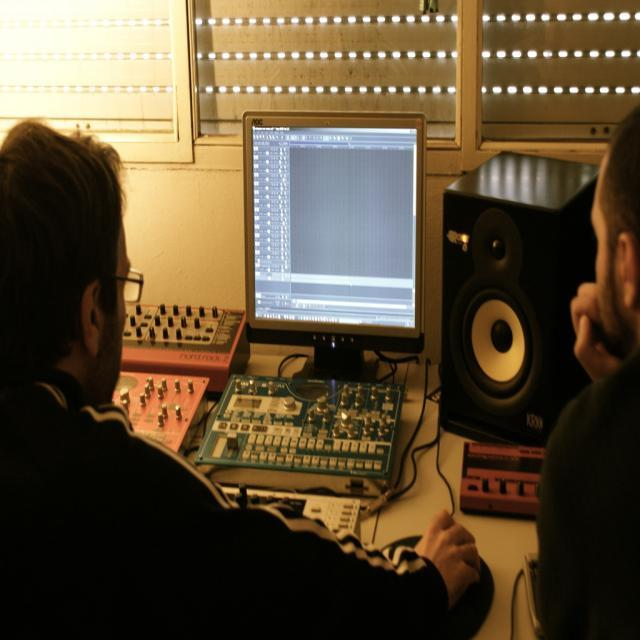others: (241, 109, 437, 355)
